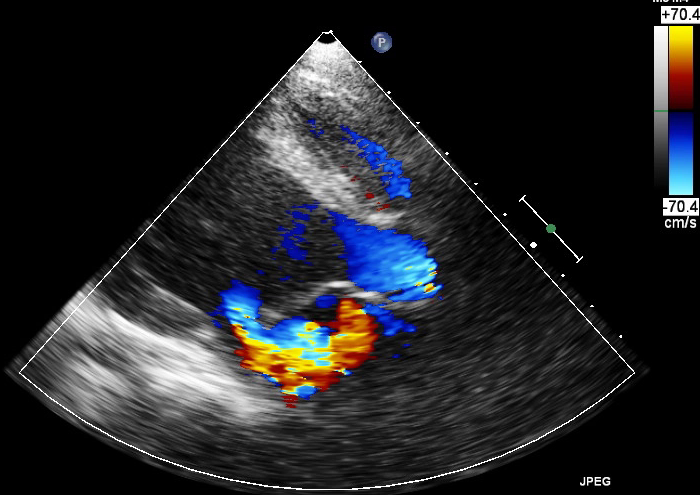MR: (225, 294, 306, 347)
